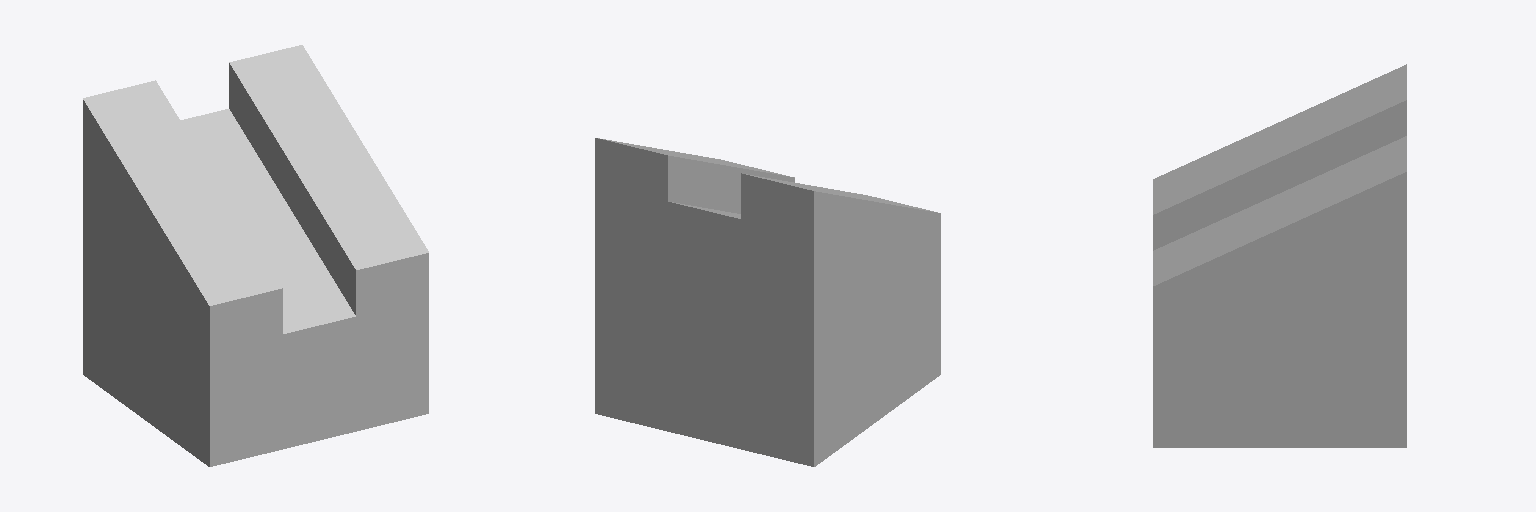
File: factory.obj
3 views of the same model, side by side, from view 1: azimuth 30°, elevation 25°; view 2: azimuth 150°, elevation 25°; view 3: azimuth 270°, elevation 25° (orthographic).
Parts seen in each view (by area): view 1: Cube; view 2: Cube; view 3: Cube.
Part boxes in pixels (x1,y1,x2,y2): Cube: (83,45,428,466); Cube: (595,138,940,466); Cube: (1153,64,1406,447).
Size of the model in its own units: 2 by 2.4 by 2.